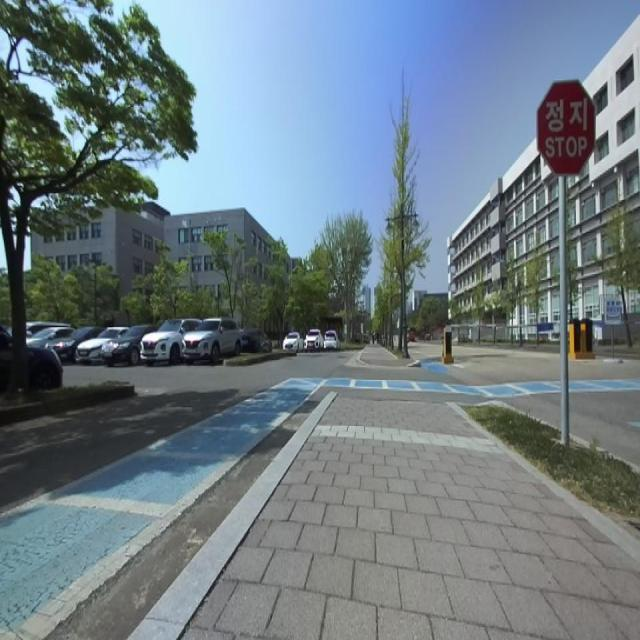sidewalk: (184, 395, 640, 639), (361, 344, 414, 365)
